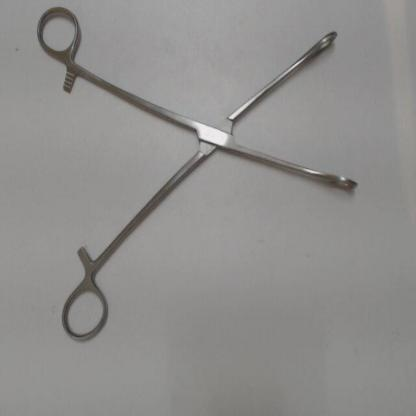Sponge Forceps: (32, 2, 368, 352)
